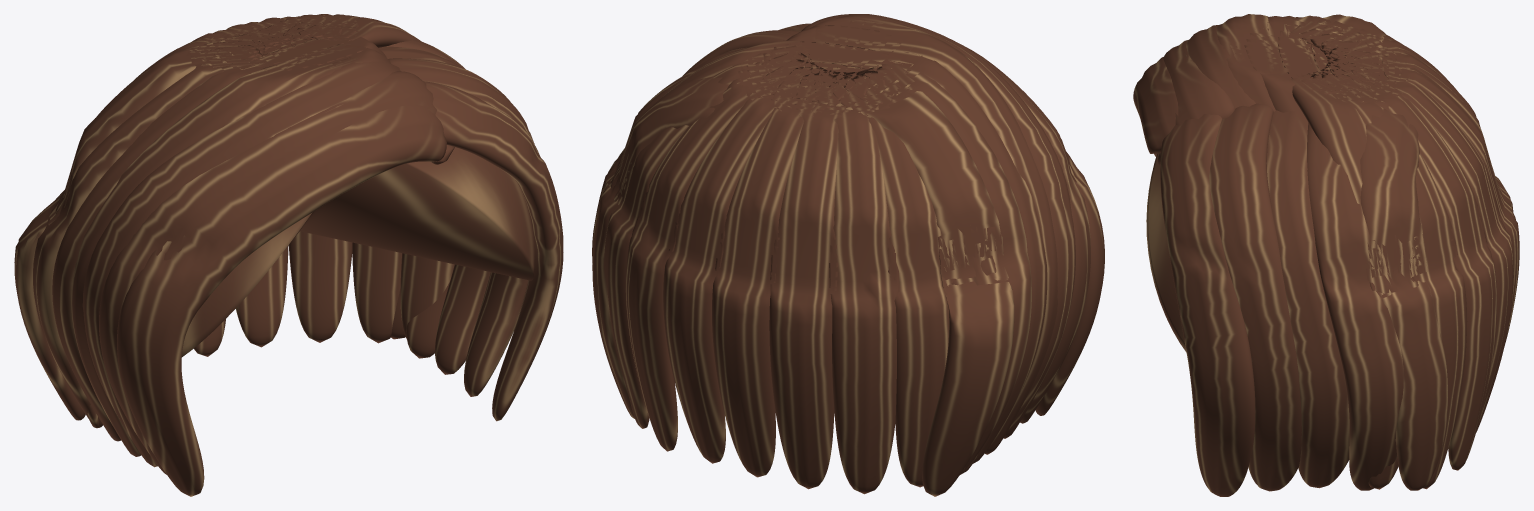
The model's file is Highlights-daeda9edd0b0252-hair.glb.
3 renders of one model, left to right at view 1: azimuth 30°, elevation 25°; view 2: azimuth 150°, elevation 25°; view 3: azimuth 270°, elevation 25°, orthographic. The views are drawn at different scales.
Visible parts, largest first — view 1: 226 hair / Hair / sculpted 0.004, 226 hair / Hair / sculpted 1.007, 226 hair / Hair / sculpted 2.004, 226 hair / Hair / sculpted 1; view 2: 226 hair / Hair / sculpted 0.004, 226 hair / Hair / sculpted 2.004, 226 hair / Hair / sculpted 1.007; view 3: 226 hair / Hair / sculpted 1.007, 226 hair / Hair / sculpted 2.004, 226 hair / Hair / sculpted 0.004, 226 hair / Hair / sculpted 1.
Part boxes in pixels (<box>): 226 hair / Hair / sculpted 0.004: <box>14,14,490,496</box>; 226 hair / Hair / sculpted 1.007: <box>52,16,563,474</box>; 226 hair / Hair / sculpted 2.004: <box>33,14,534,467</box>; 226 hair / Hair / sculpted 1: <box>181,147,534,357</box>; 226 hair / Hair / sculpted 0.004: <box>625,16,1104,496</box>; 226 hair / Hair / sculpted 2.004: <box>592,14,1075,487</box>; 226 hair / Hair / sculpted 1.007: <box>592,14,1090,494</box>; 226 hair / Hair / sculpted 1.007: <box>1160,16,1513,496</box>; 226 hair / Hair / sculpted 2.004: <box>1184,15,1519,491</box>; 226 hair / Hair / sculpted 0.004: <box>1133,14,1513,488</box>; 226 hair / Hair / sculpted 1: <box>1146,153,1186,352</box>.
Size of the model in its own units: 1.02 by 0.8387 by 0.7806.
4 materials, 4 textured.
